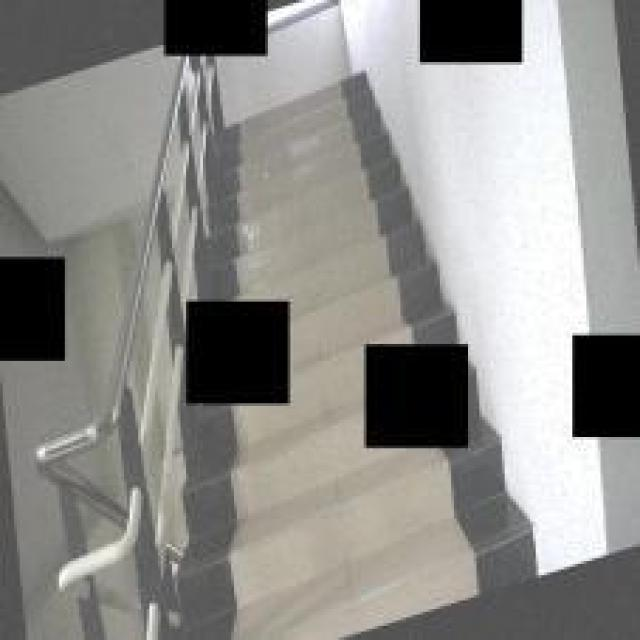upstair: (201, 75, 413, 278)
